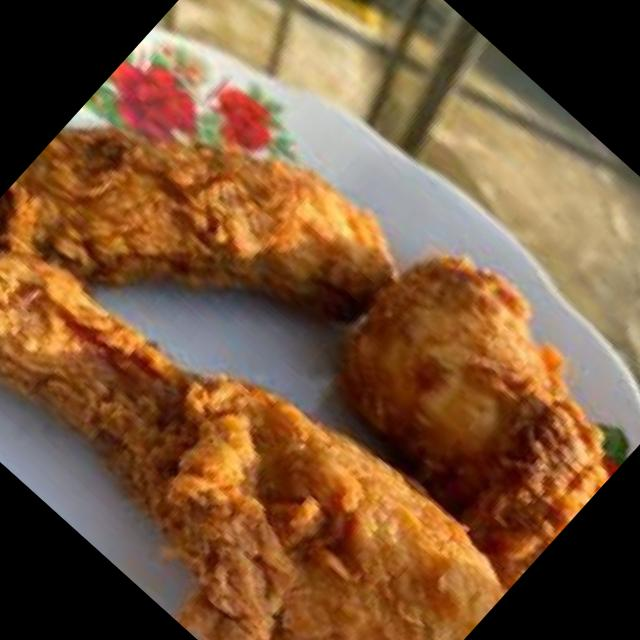Fried Chicken: (0, 250, 505, 640), (334, 255, 612, 593), (0, 123, 397, 326)
